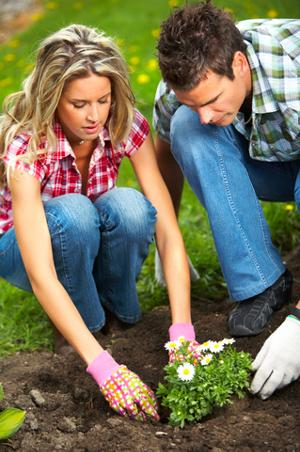person: (1, 21, 197, 426)
